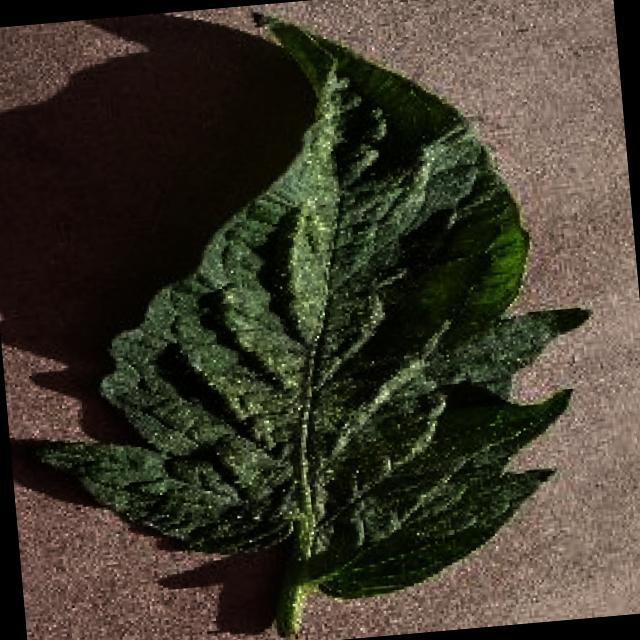Tomato spider mites leaf: (0, 0, 610, 630)
